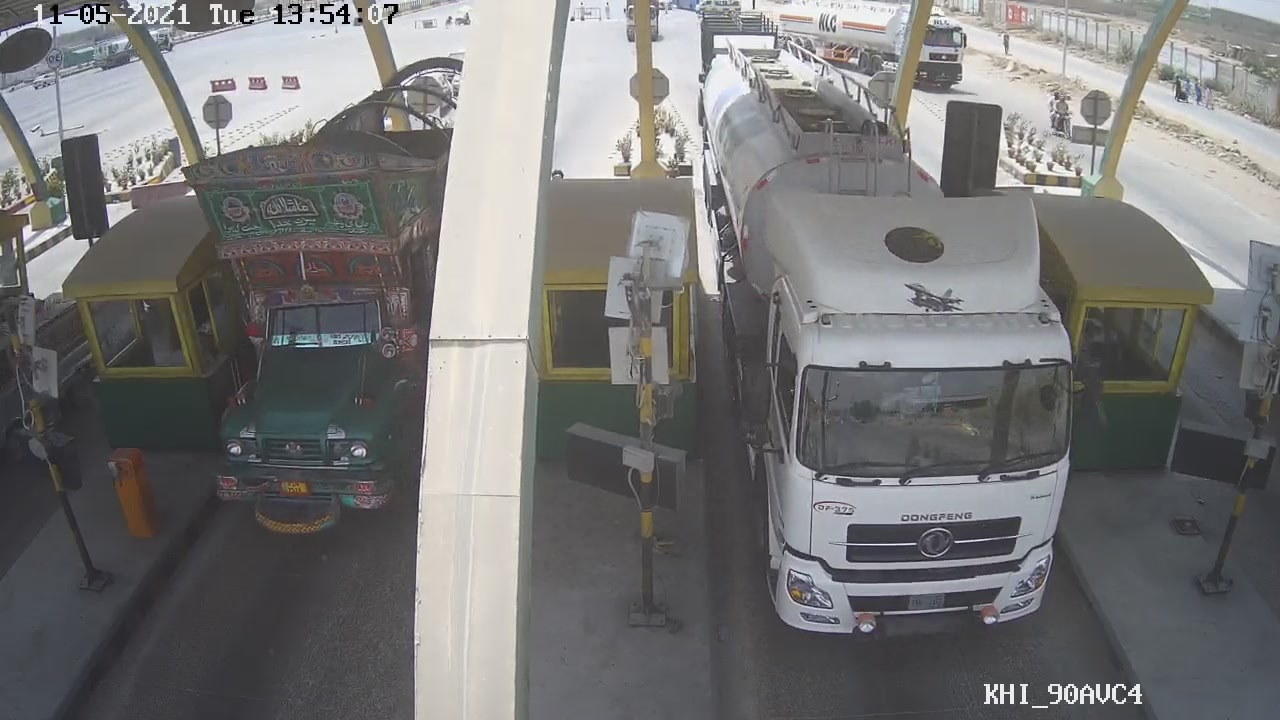F6: (694, 31, 1107, 638)
